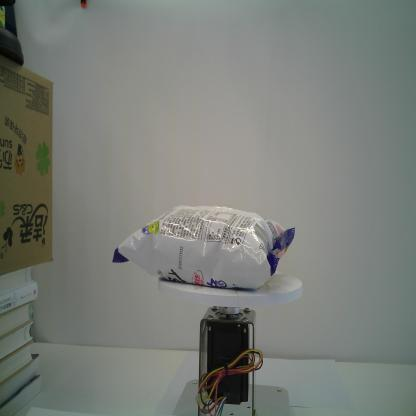Puffed Food: (110, 205, 296, 289)
